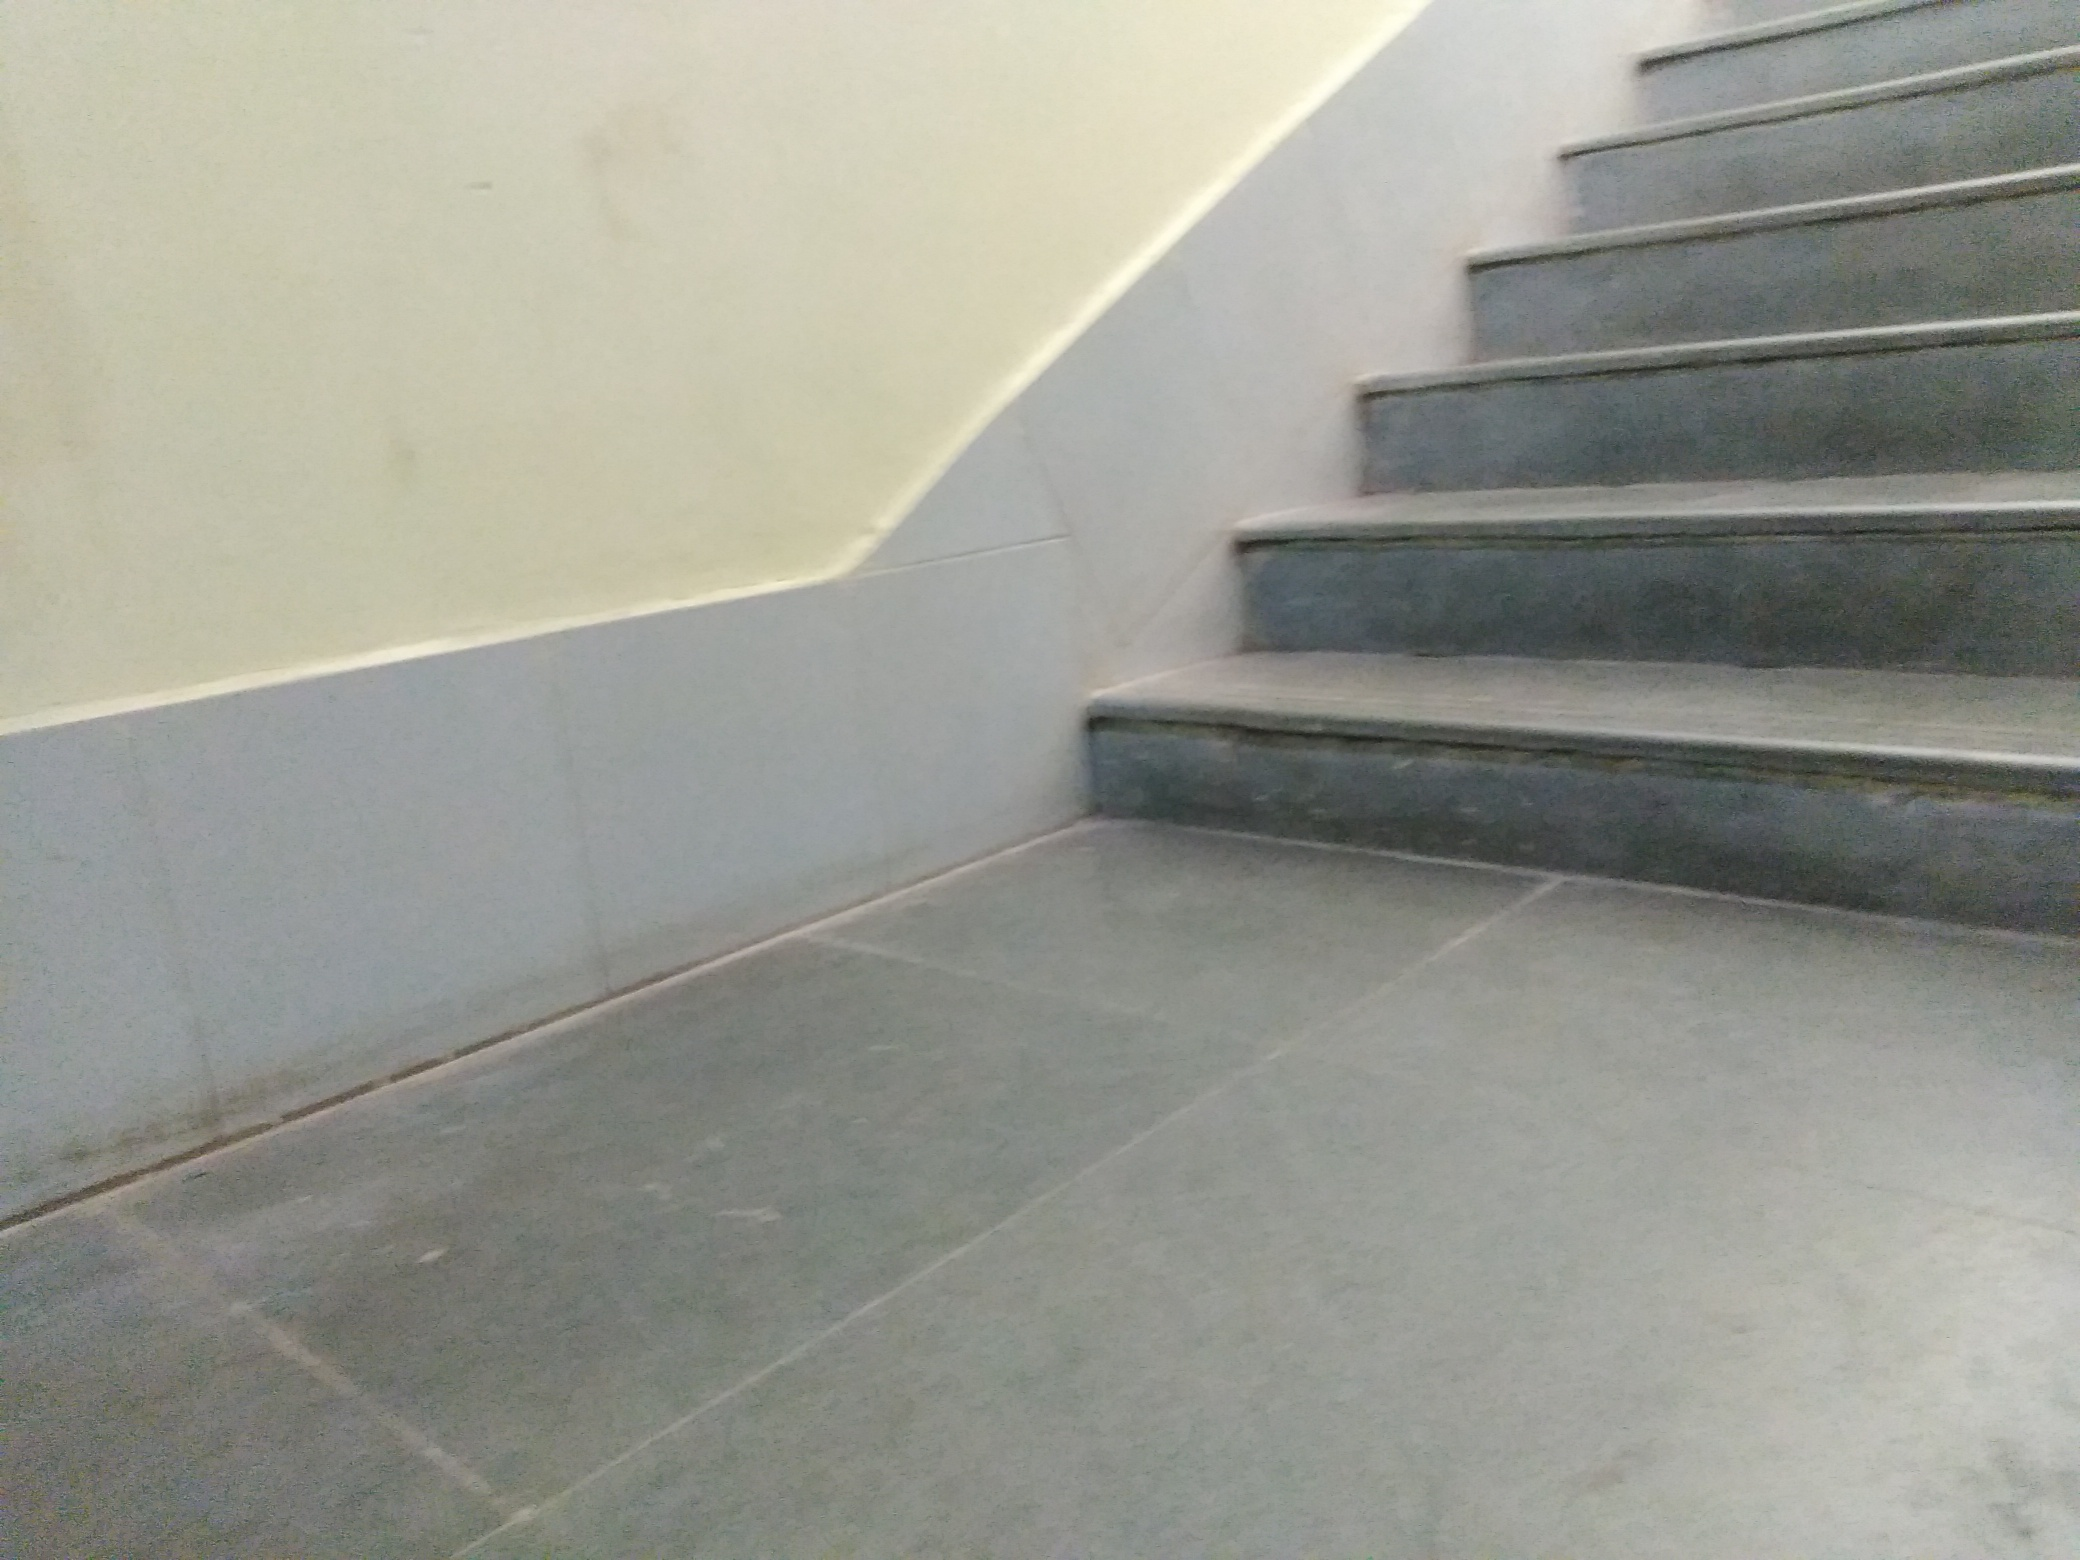stairs_up: (1174, 8, 2073, 887)
